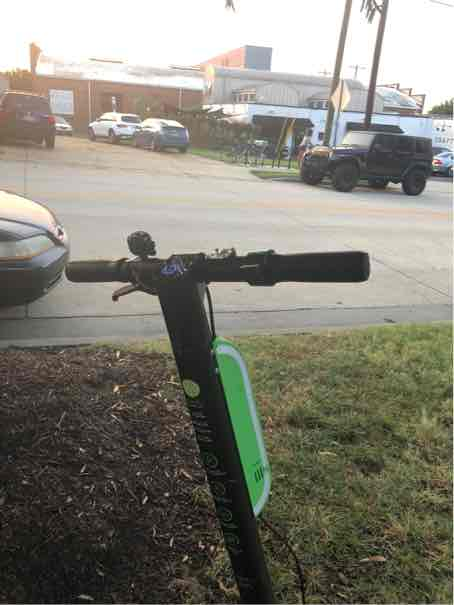scooter: (10, 244, 380, 605)
